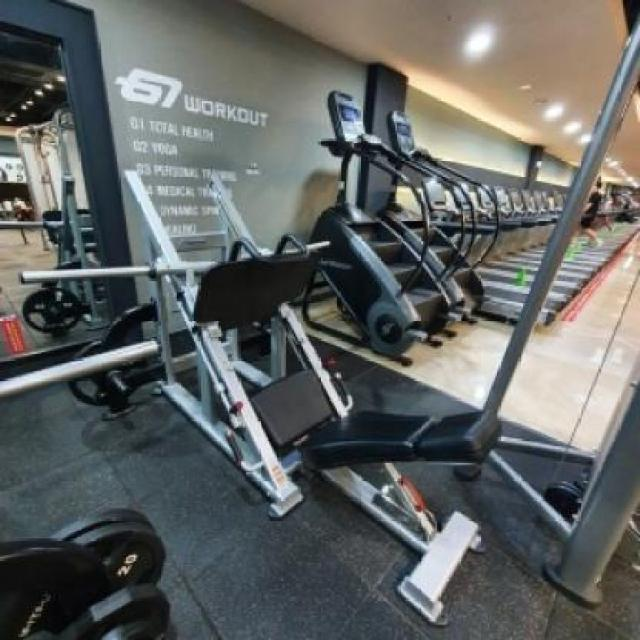leg press: (11, 123, 592, 620)
